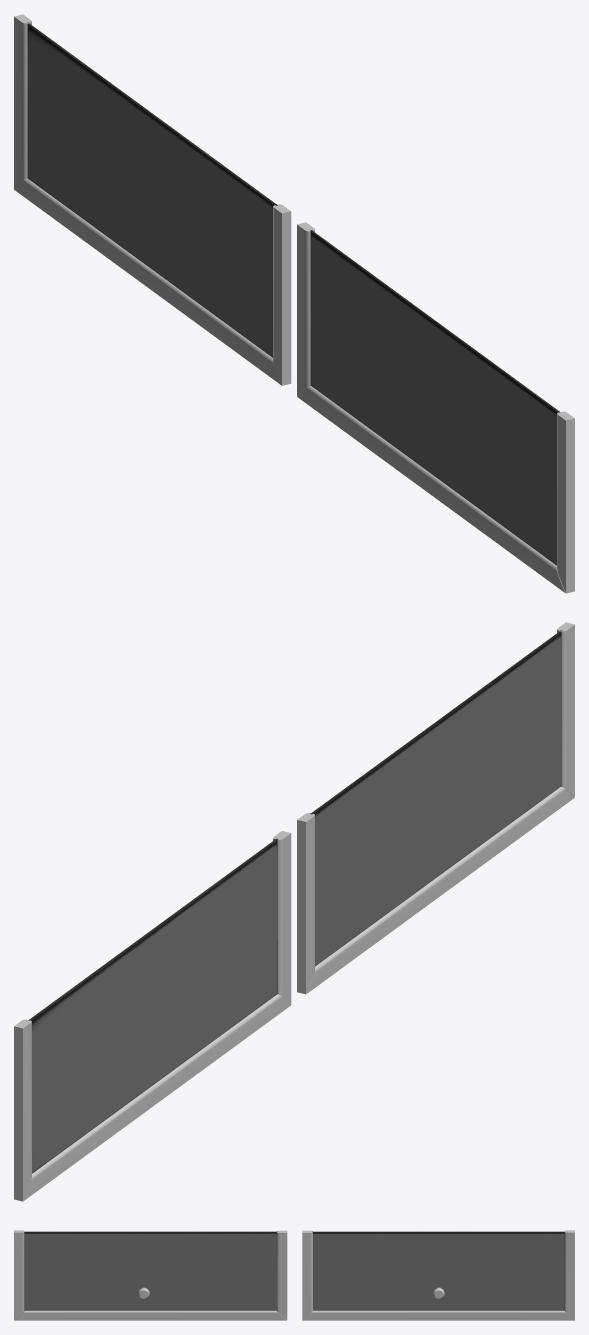
Rendered from SM_PreservationCase_01_LOD0_SM_PreservationCase_01b.fbx.
3 renders of one model, top to bottom at view 1: azimuth 30°, elevation 25°; view 2: azimuth 150°, elevation 25°; view 3: azimuth 270°, elevation 25°, orthographic. The views are drawn at different scales.
Parts seen in each view (by area): view 1: SM_PreservationCase_01_LOD0_SM_PreservationCase_01b_LOD0; view 2: SM_PreservationCase_01_LOD0_SM_PreservationCase_01b_LOD0; view 3: SM_PreservationCase_01_LOD0_SM_PreservationCase_01b_LOD0.
Part boxes in pixels (x1,y1,x2,y2): SM_PreservationCase_01_LOD0_SM_PreservationCase_01b_LOD0: (14, 14, 574, 593); SM_PreservationCase_01_LOD0_SM_PreservationCase_01b_LOD0: (14, 622, 574, 1201); SM_PreservationCase_01_LOD0_SM_PreservationCase_01b_LOD0: (14, 1230, 574, 1320).
Bounding box in the file's own units: 1.7 × 79.86 × 13.82.
